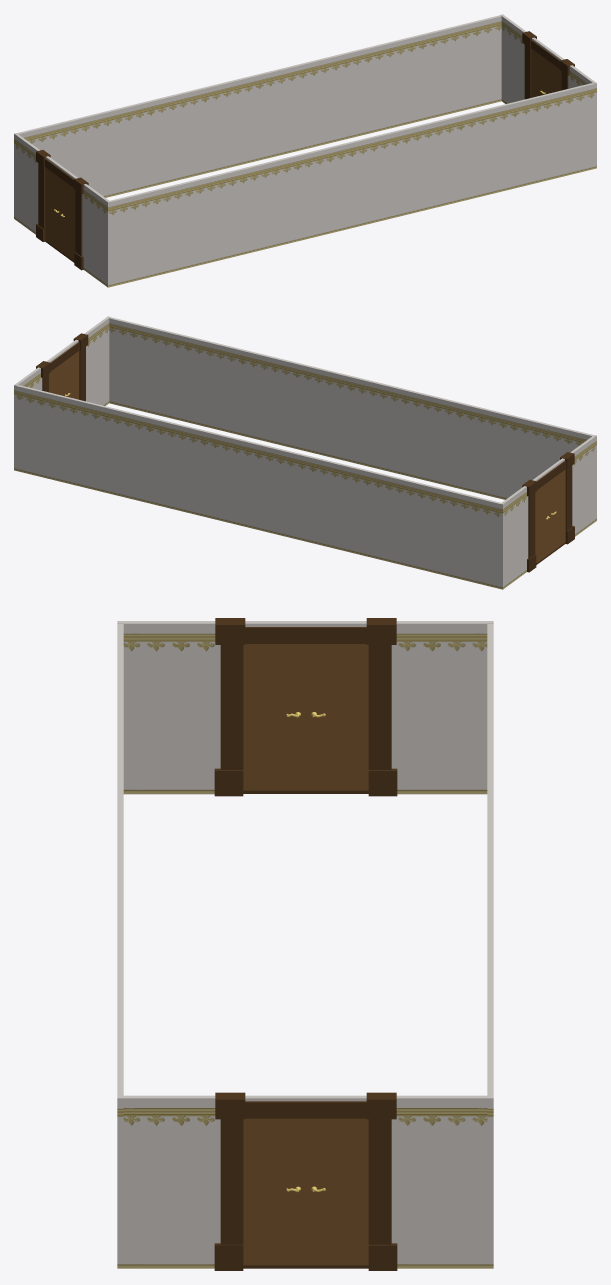
Rendered from Geo_Room9x3_2Doors_01.fbx.
The picture shows the model from 3 angles, top to bottom: view 1: azimuth 30°, elevation 25°; view 2: azimuth 150°, elevation 25°; view 3: azimuth 270°, elevation 25°; orthographic projection. The views are drawn at different scales.
Parts seen in each view (by area): view 1: geo_wallTopx9_02, geo_wallTopx9_01, geo_wallTopx3_01 (×2), geo_wallCulledx9_02, geo_wallCulledx9_01, geo_door_02 (×2), geo_door_01 (×2), geo_doorFrameSide_05 (×2), geo_wallCulledx3_01, geo_doorFrameSide_01; view 2: geo_wallTopx9_01, geo_wallTopx9_02, geo_wallTopx3_01 (×2), geo_wallCulledx9_01, geo_wallCulledx9_02, geo_door_01 (×2), geo_door_02 (×2), geo_wallCulledx3_01, geo_doorFrameSide_05, geo_doorFrameSide_01; view 3: geo_wallTopx3_01 (×2), geo_door_02 (×2), geo_door_01 (×2), geo_wallCulledx3_01 (×2), geo_doorFrameSide_05 (×2), geo_doorFrameSide_01 (×2), geo_wallTopx9_01, geo_wallTopx9_02, geo_doorFrameTop_01 (×2), geo_doorFrameSide_07 (×2), geo_doorFrameSide_03 (×2).
Boxes of the visible parts, bbox=[...] form: geo_wallTopx9_02: bbox=[106, 83, 594, 276]; geo_wallTopx9_01: bbox=[14, 15, 501, 208]; geo_wallTopx3_01 (×2): bbox=[14, 14, 596, 274]; geo_wallCulledx9_02: bbox=[106, 158, 594, 287]; geo_wallCulledx9_01: bbox=[14, 90, 501, 219]; geo_door_02 (×2): bbox=[45, 48, 546, 250]; geo_door_01 (×2): bbox=[60, 60, 561, 260]; geo_doorFrameSide_05 (×2): bbox=[38, 45, 531, 229]; geo_wallCulledx3_01: bbox=[15, 209, 106, 286]; geo_doorFrameSide_01: bbox=[75, 190, 82, 256]; geo_wallTopx9_01: bbox=[16, 385, 504, 578]; geo_wallTopx9_02: bbox=[109, 317, 596, 510]; geo_wallTopx3_01 (×2): bbox=[14, 316, 596, 578]; geo_wallCulledx9_01: bbox=[16, 460, 504, 589]; geo_wallCulledx9_02: bbox=[109, 392, 596, 521]; geo_door_01 (×2): bbox=[63, 351, 565, 553]; geo_door_02 (×2): bbox=[49, 362, 549, 563]; geo_wallCulledx3_01: bbox=[500, 511, 595, 589]; geo_doorFrameSide_05: bbox=[528, 493, 535, 558]; geo_doorFrameSide_01: bbox=[565, 465, 572, 531]; geo_wallTopx3_01 (×2): bbox=[117, 621, 493, 1245]; geo_door_02 (×2): bbox=[305, 644, 368, 1265]; geo_door_01 (×2): bbox=[243, 644, 305, 1265]; geo_wallCulledx3_01 (×2): bbox=[123, 771, 487, 1268]; geo_doorFrameSide_05 (×2): bbox=[368, 645, 391, 1244]; geo_doorFrameSide_01 (×2): bbox=[220, 645, 243, 1244]; geo_wallTopx9_01: bbox=[487, 624, 493, 1246]; geo_wallTopx9_02: bbox=[117, 624, 123, 1246]; geo_doorFrameTop_01 (×2): bbox=[245, 627, 366, 1118]; geo_doorFrameSide_07 (×2): bbox=[366, 618, 396, 1119]; geo_doorFrameSide_03 (×2): bbox=[215, 618, 245, 1119].
Bounding box in the file's own units: 908 × 151 × 300.
5 materials, 1 textured.
